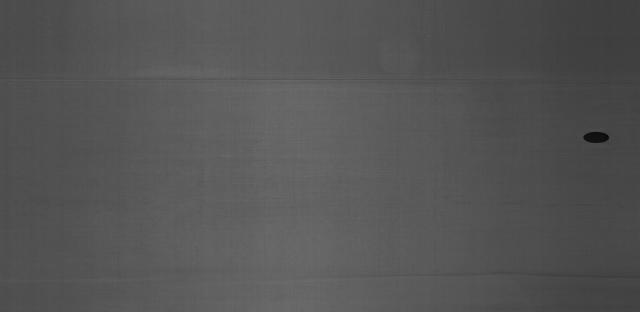punching_hole: (578, 127, 612, 146)
welding_line: (5, 66, 636, 92)
